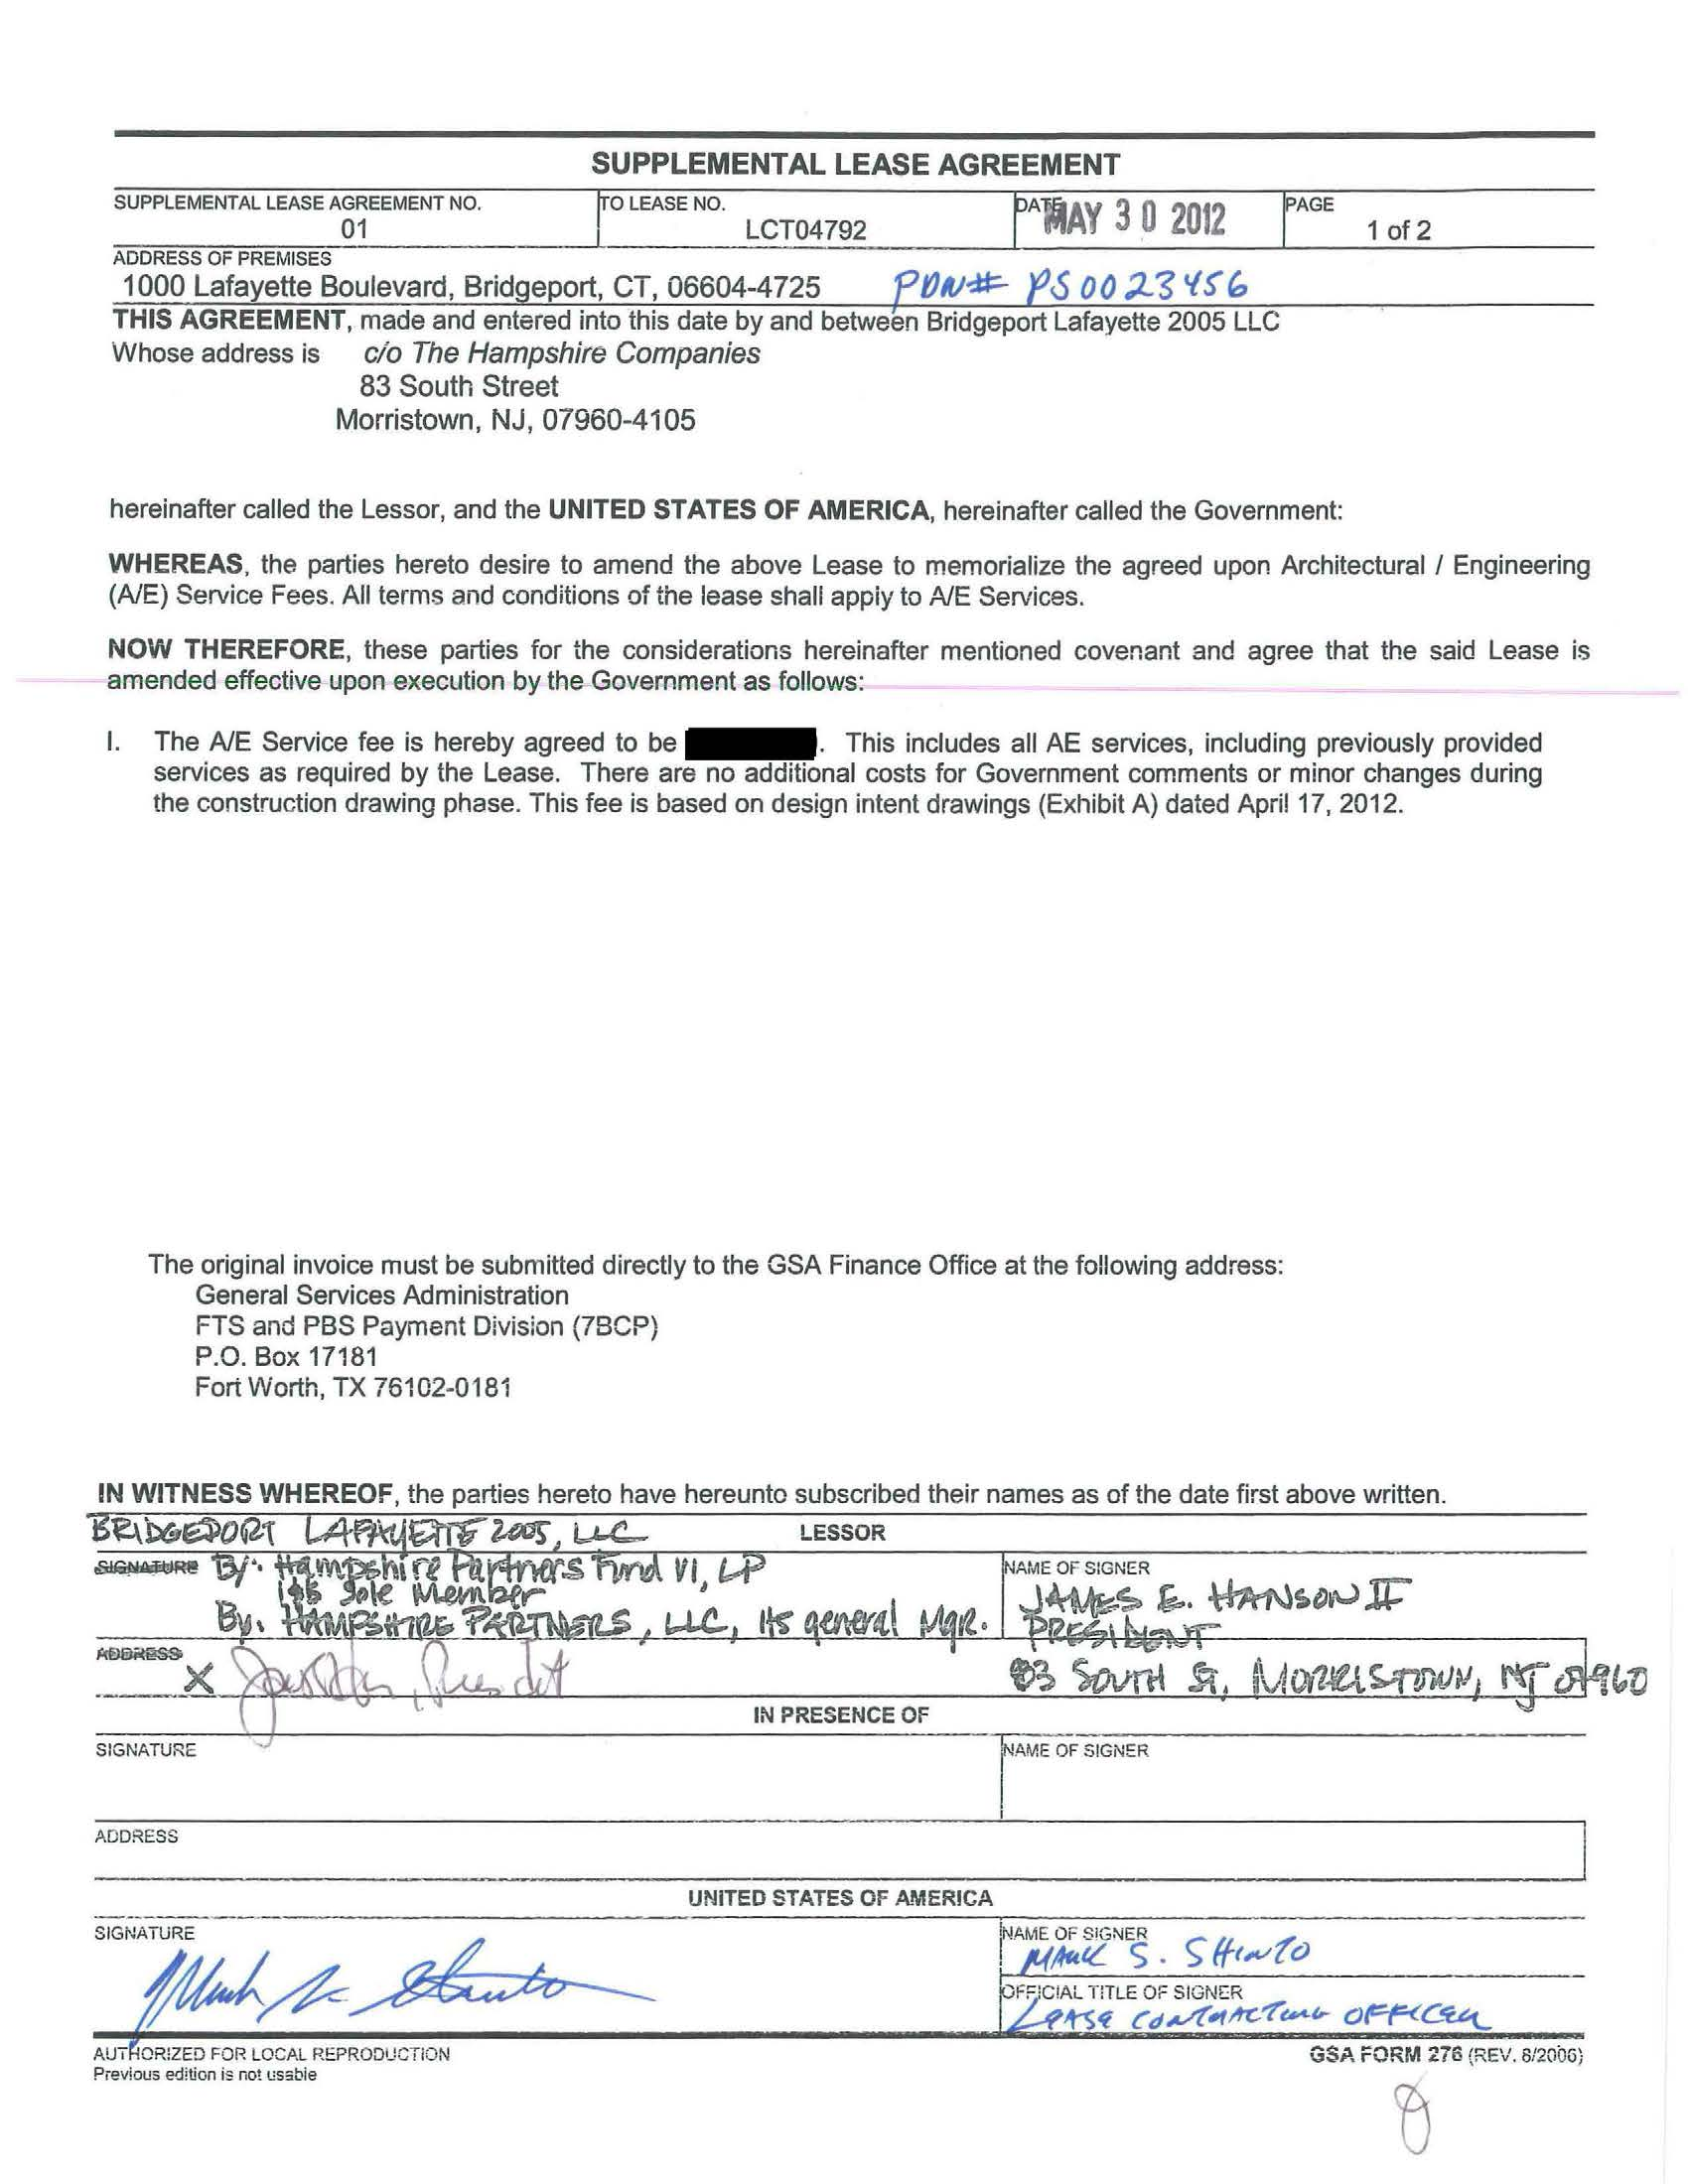handwritten: (110, 1938, 663, 2039), (1004, 1985, 1500, 2039), (876, 241, 1270, 300), (1011, 1939, 1330, 1978)
